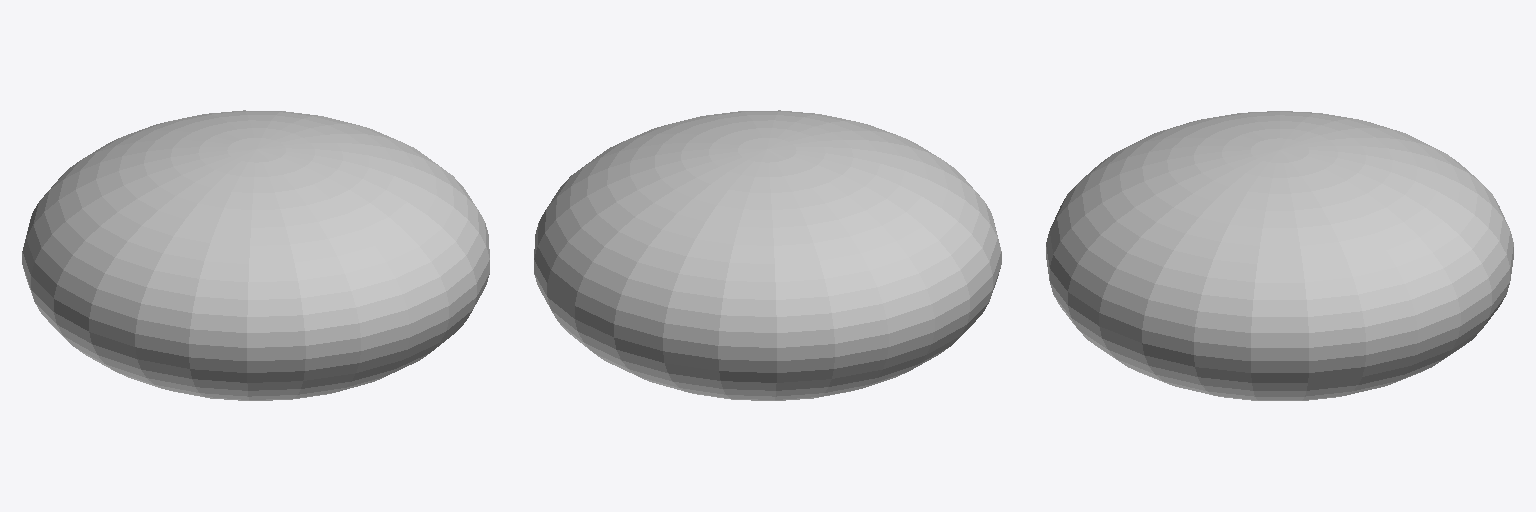
The model's file is sphere_verycomplex.obj.
3 views of the same model, side by side, from view 1: azimuth 30°, elevation 25°; view 2: azimuth 150°, elevation 25°; view 3: azimuth 270°, elevation 25° (orthographic).
Visible parts, largest first — view 1: Sphere; view 2: Sphere; view 3: Sphere.
Part boxes in pixels (x1,y1,x2,y2): Sphere: (22, 110, 489, 400); Sphere: (534, 110, 1001, 400); Sphere: (1046, 111, 1513, 400).
Bounding box in the file's own units: 1.49 × 0.75 × 1.49.